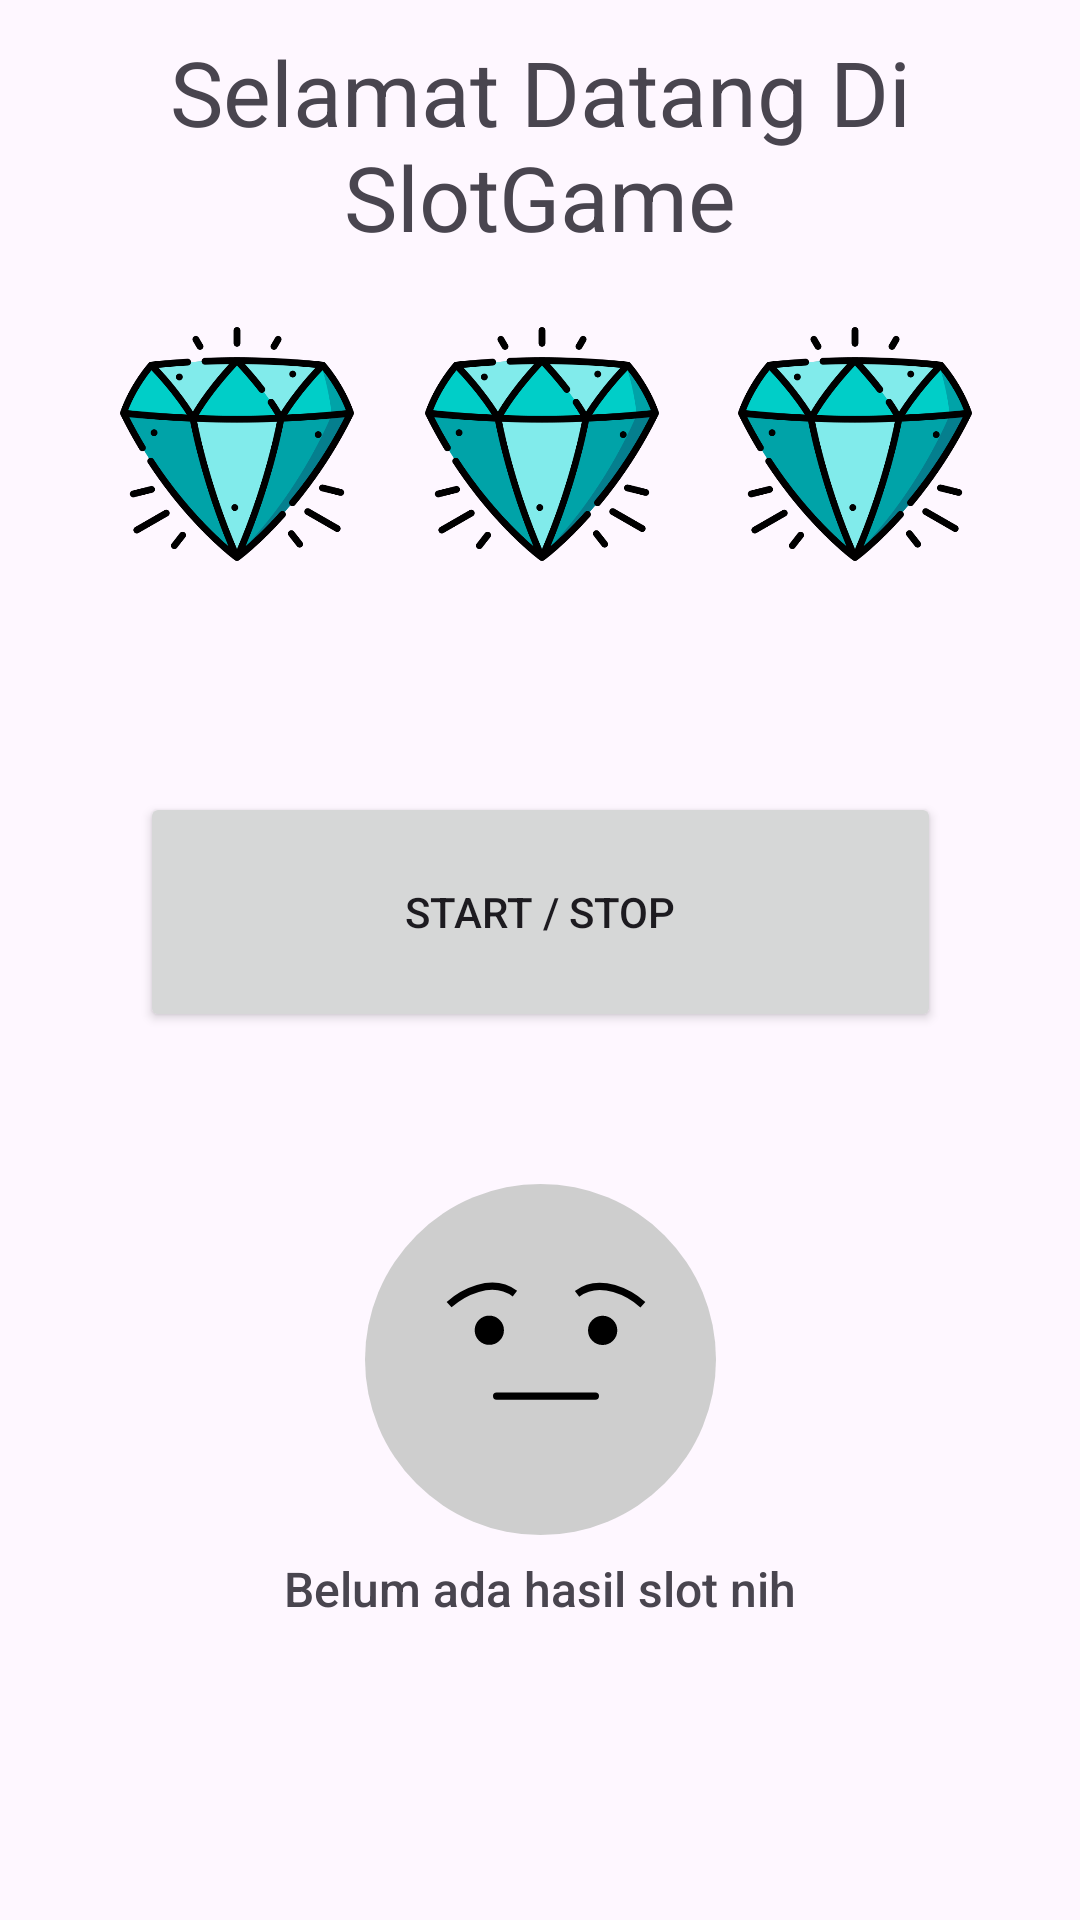

Icon click points for this 1080x1920 phone screenshot, format point (x, y):
diamond: point (237, 444), point (542, 444), point (855, 444)
perasaandatar: point (540, 1359)
